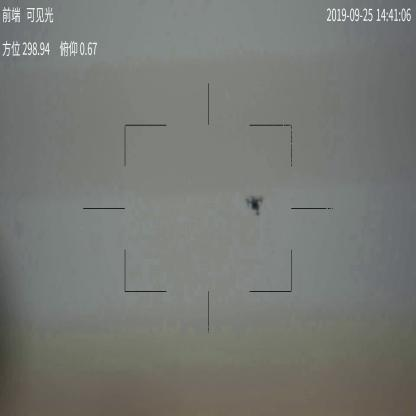uav: (244, 192, 264, 217)
